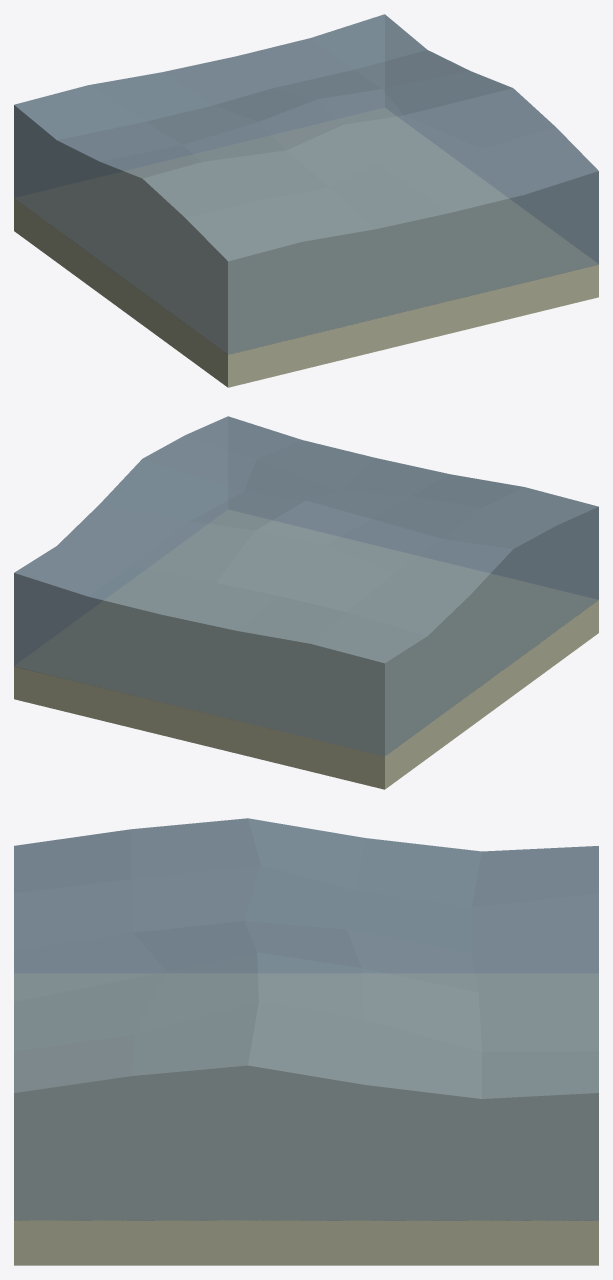
File: Море темное.fbx
3 renders of one model, top to bottom at view 1: azimuth 30°, elevation 25°; view 2: azimuth 150°, elevation 25°; view 3: azimuth 270°, elevation 25°, orthographic. The views are drawn at different scales.
Visible parts, largest first — view 1: база_темное_море; view 2: база_темное_море; view 3: база_темное_море.
Boxes of the visible parts, box(x1,y1,x2,y2) form: база_темное_море: box(14, 14, 598, 387); база_темное_море: box(14, 416, 598, 789); база_темное_море: box(14, 818, 598, 1265).
Size of the model in its own units: 2 by 0.7625 by 2.
